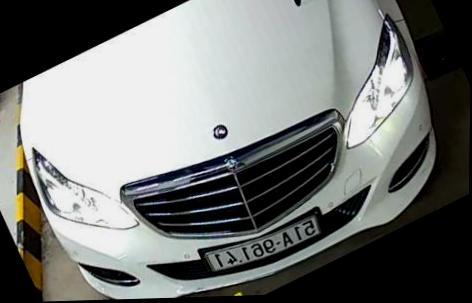License_Plate: (204, 206, 323, 277)
